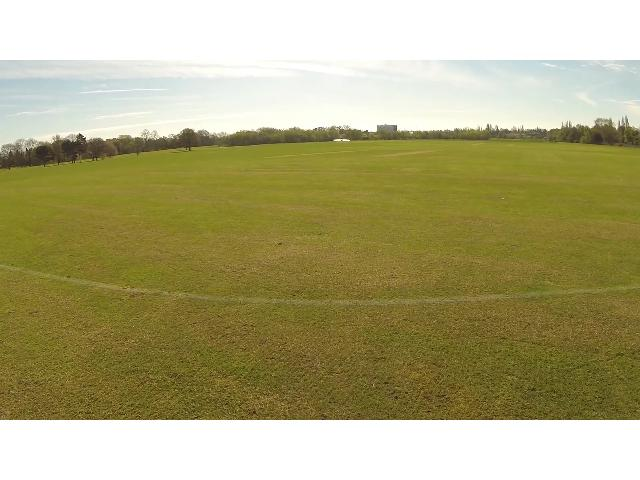Anti-Drone: (329, 132, 356, 148)
